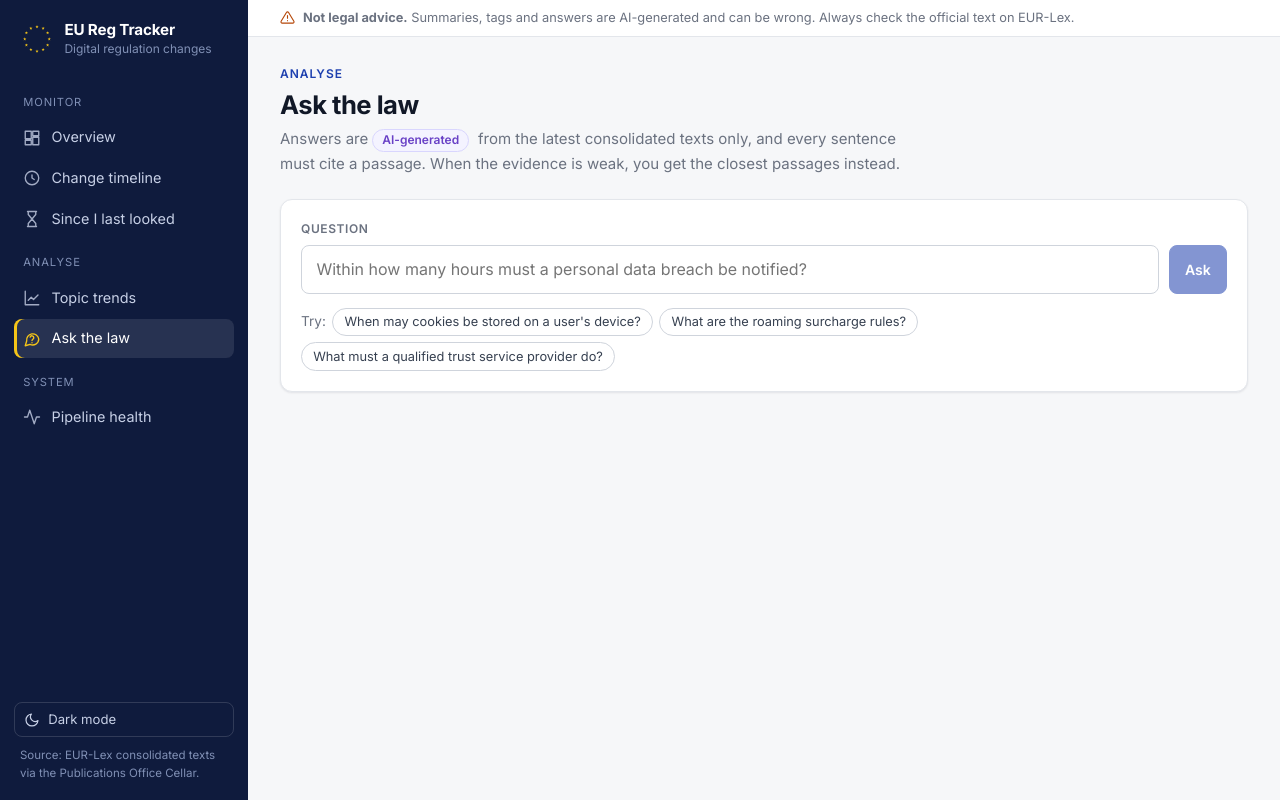
ask › reports rate limiting
Type "Anything?" into the field labelled "Question".
click(730, 270); type("Anything?")  # box [301, 245, 1159, 294]
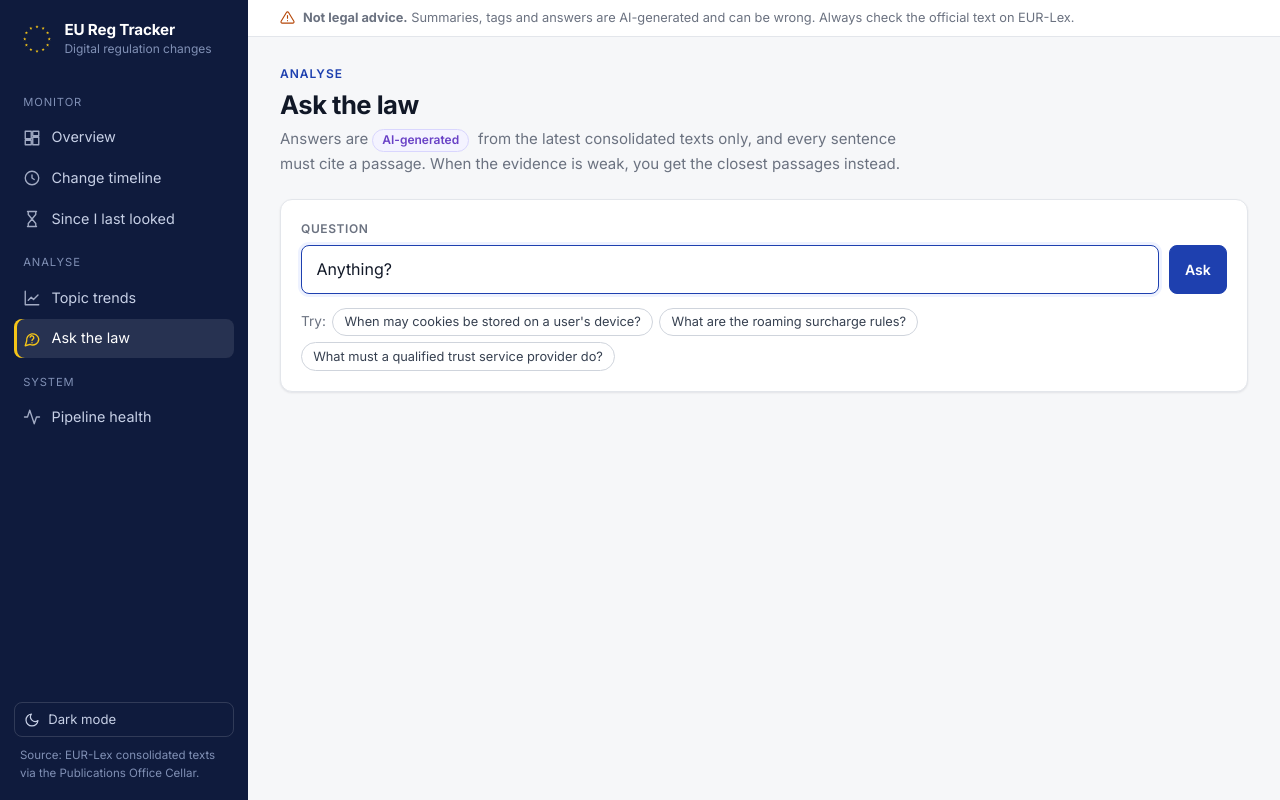
Click the button "Ask".
click(1198, 270)  # box [1169, 245, 1227, 294]
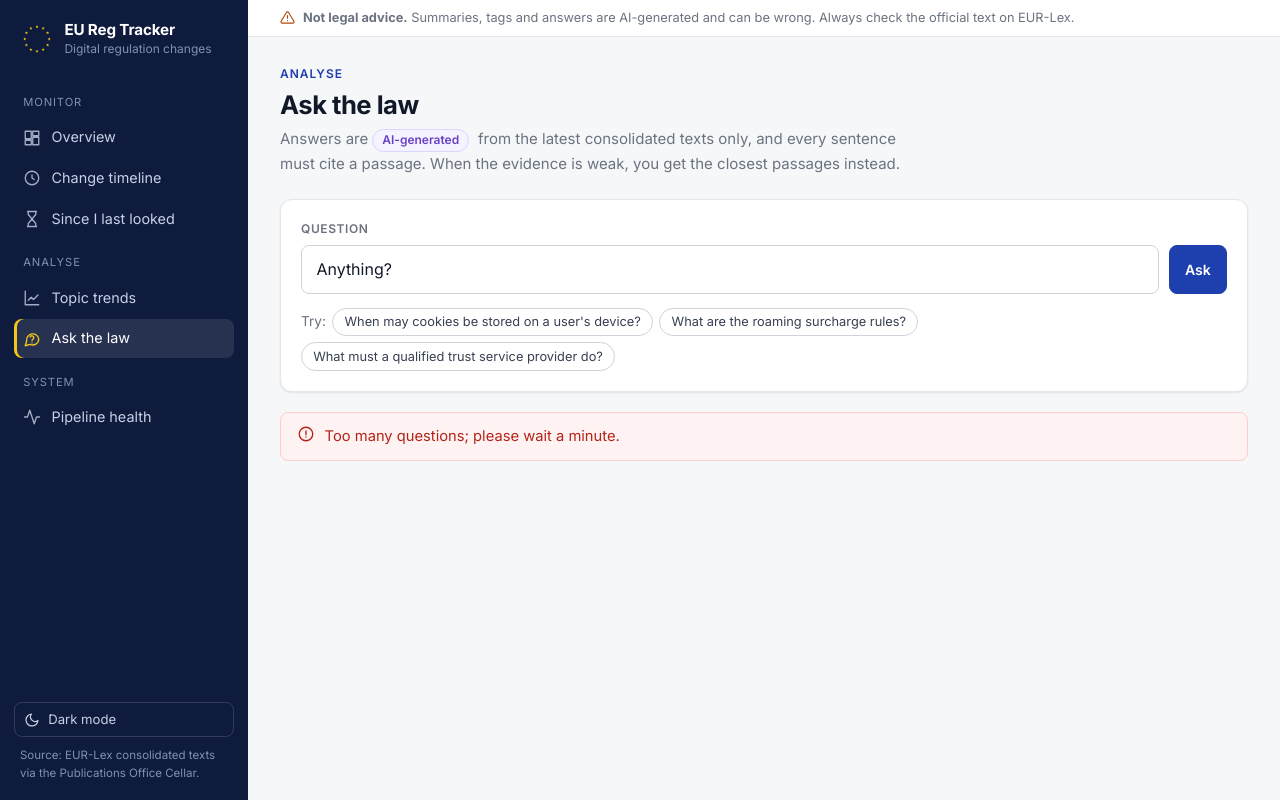
Check: the message shows "Too many questions", box [325, 427, 620, 445]
